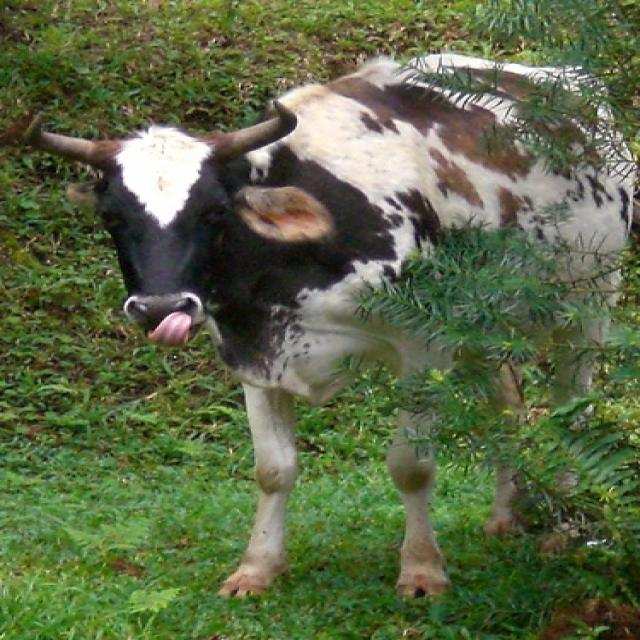cow: (22, 50, 635, 607)
